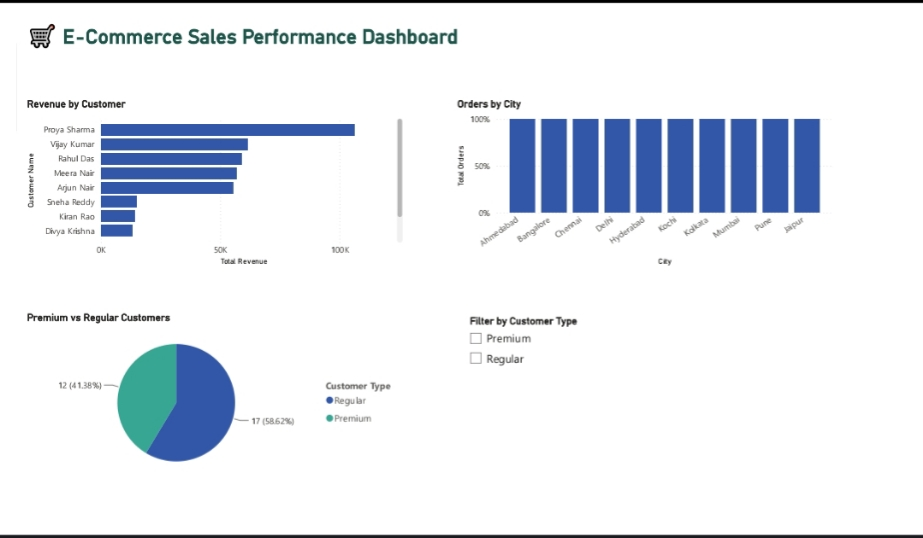

Layout of this report page (visuals, bound fields, positions):
{"tool":"powerbi","page":{"name":"Customer Analysis","canvas":[1280,720],"ordinal":2},"visuals":[{"type":"textbox","title":"🛒 E-Commerce Sales Performance Dashboard","box":[10.1,0,780.5,72],"z":0},{"type":"barChart","title":"Revenue by Customer ","fields":{"Category":["CustomerDB.Customer Name"],"Y":["Cleaned.Total Revenue"]},"box":[10.1,113.8,550.1,246.2],"z":1000},{"type":"hundredPercentStackedColumnChart","title":"Orders by City","fields":{"Category":["CustomerDB.City"],"Y":["Cleaned.Total Orders"]},"box":[629.3,113.8,550.1,246.2],"z":2000},{"type":"pieChart","title":"Premium vs Regular Customers","fields":{"Category":["CustomerDB.Customer Type"],"Y":["Cleaned.Total Orders"]},"box":[10.1,421.9,550.1,246.2],"z":3000},{"type":"slicer","fields":{"Values":["CustomerDB.Customer Type"]},"box":[639.4,421.9,550.1,246.2],"z":4000}]}

Visuals, with their boxes on the page's 1280x720 design canvas (x1, y1, x2, y2). These are canvas units, not pixel positions in the 923x538 screenshot, which may show the page scaled, cropped or inside an application window:
"🛒 E-Commerce Sales Performance Dashboard" textbox: (10, 0, 791, 72)
"Revenue by Customer " barChart: (10, 114, 560, 360)
"Orders by City" hundredPercentStackedColumnChart: (629, 114, 1179, 360)
"Premium vs Regular Customers" pieChart: (10, 422, 560, 668)
slicer - CustomerDB.Customer Type: (639, 422, 1190, 668)
